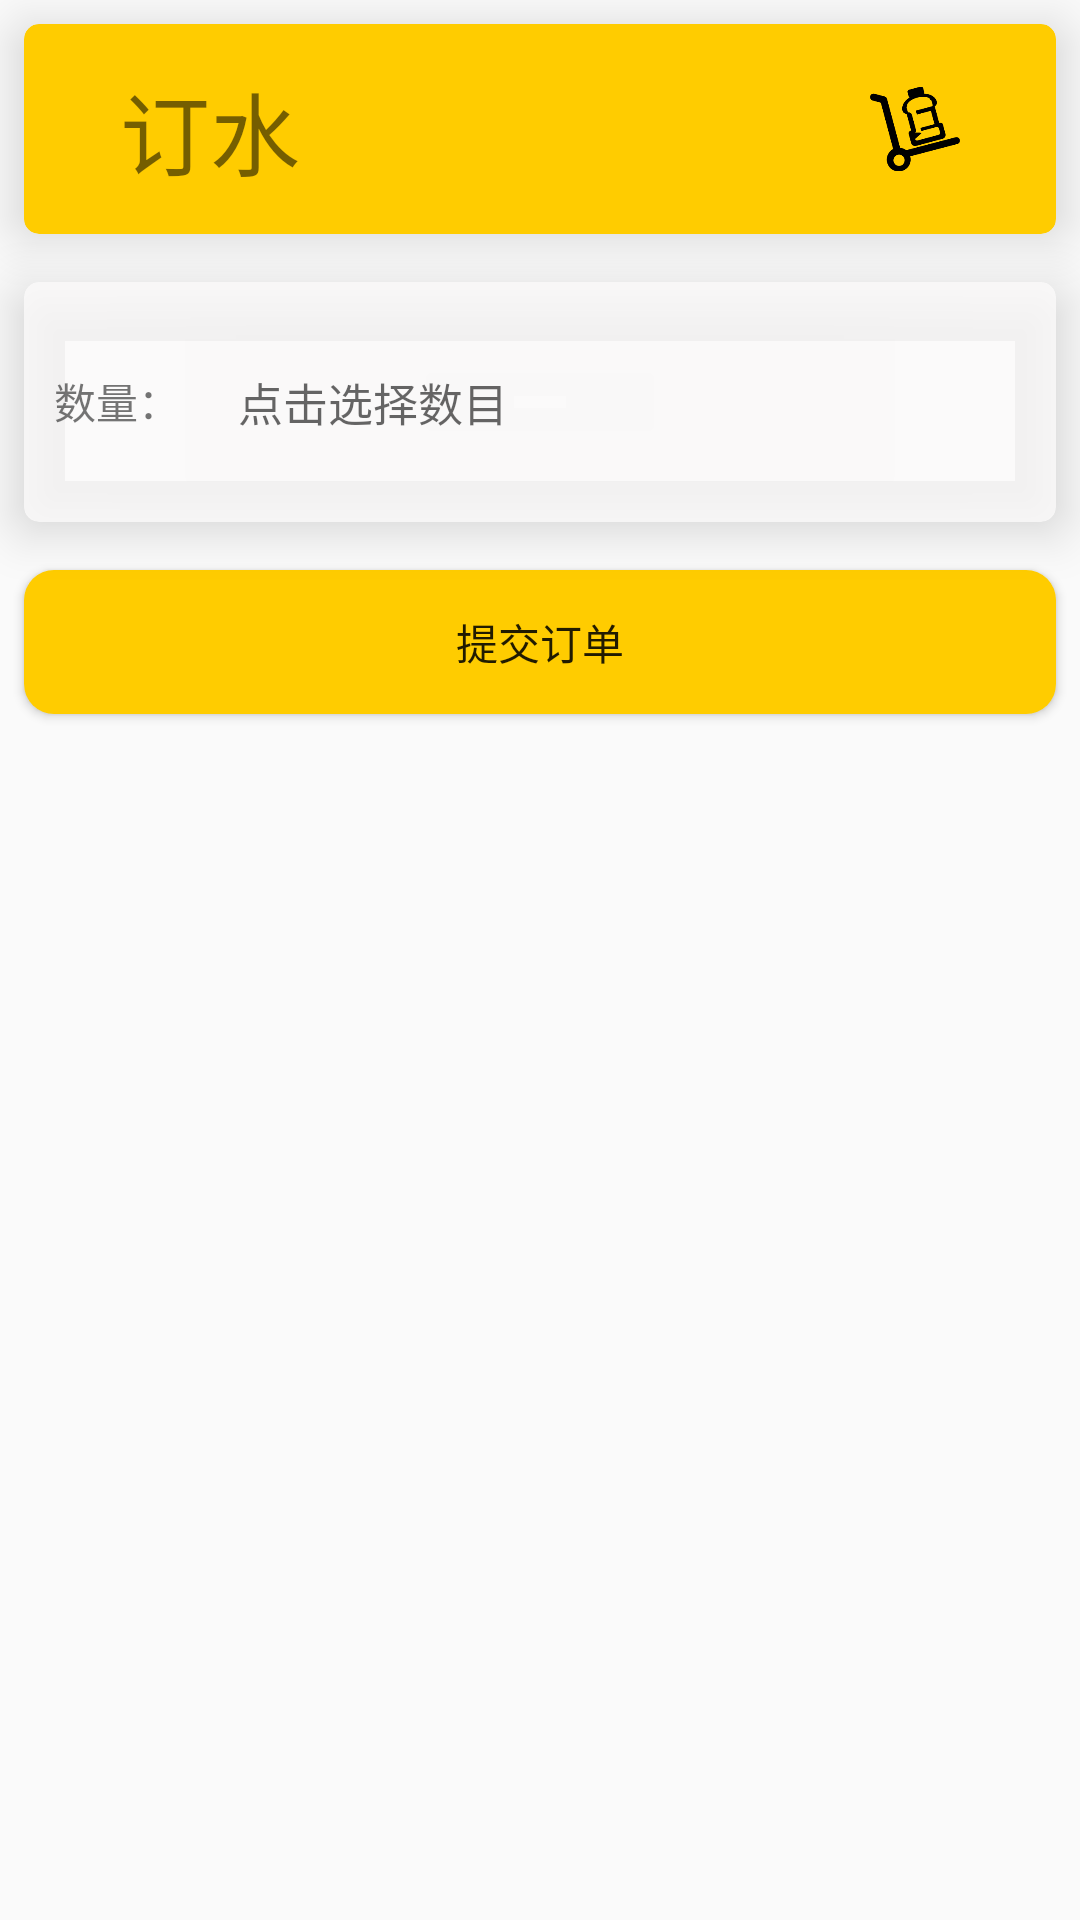

Named icons in this screenshot (1080×1920) and their centers, [x,y]:
water: [915,129]
